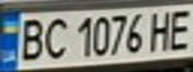0: (90, 12, 112, 56)
1: (72, 14, 93, 58)
6: (124, 10, 151, 54)
7: (109, 11, 130, 56)
B: (12, 15, 48, 62)
C: (39, 15, 72, 61)
E: (163, 4, 193, 52)
H: (145, 7, 175, 52)
